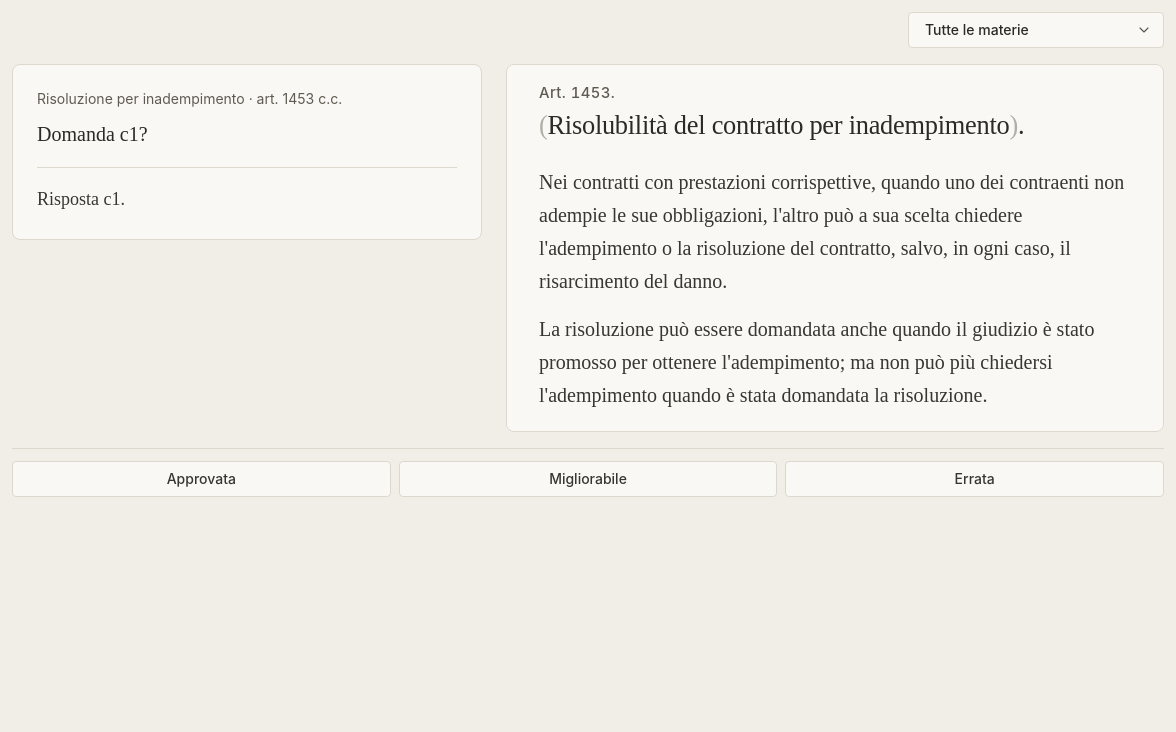
«Da validare», voting › lets the validator take the reason field back without voting
expect the text "Domanda c1?" is shown: met, box [37,123,148,145]
Click the button "Errata" at (975, 479), box [785,461,1164,497]
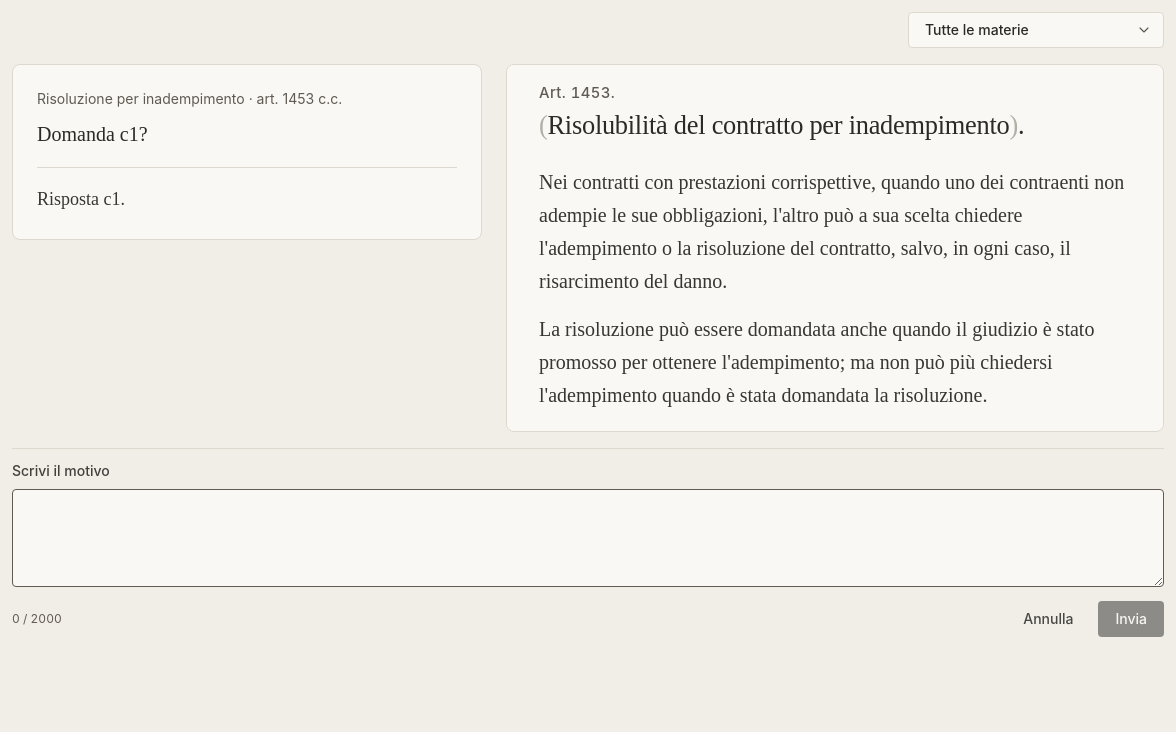
Click the button "Annulla" at (1048, 619), box [1006,601,1090,637]
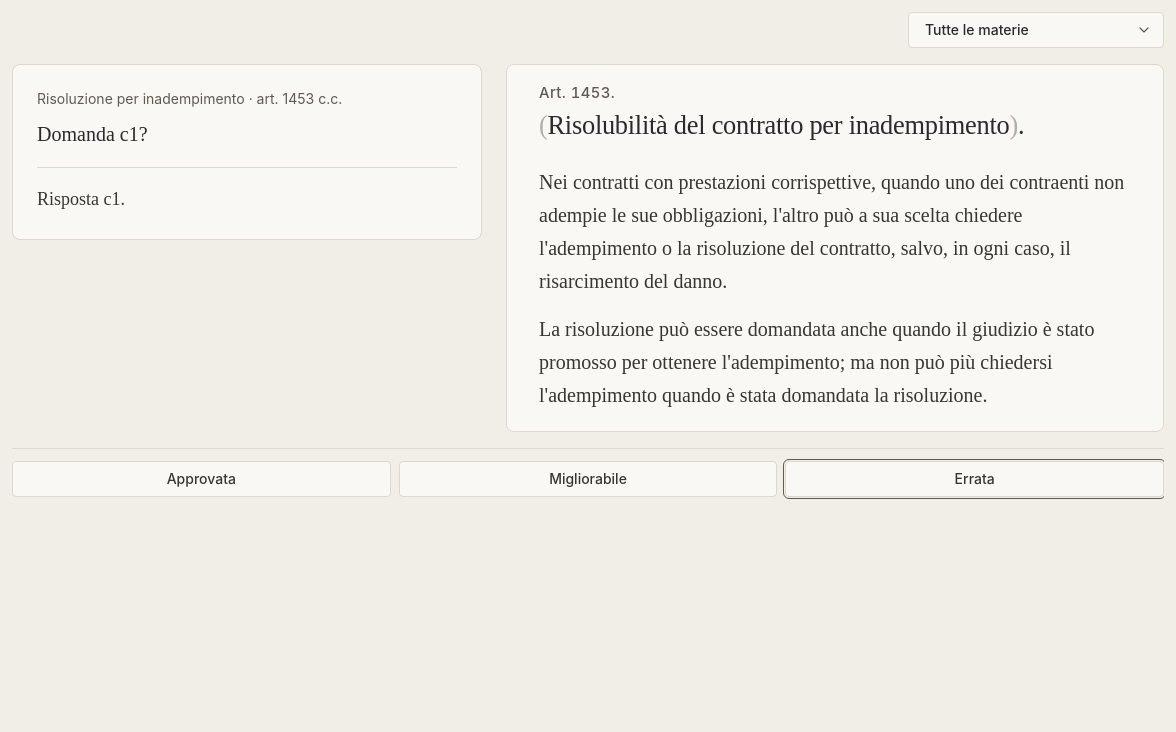
expect the label "Scrivi il motivo" is gone: met
expect the button "Approvata" is shown: met, box [12,461,391,497]
